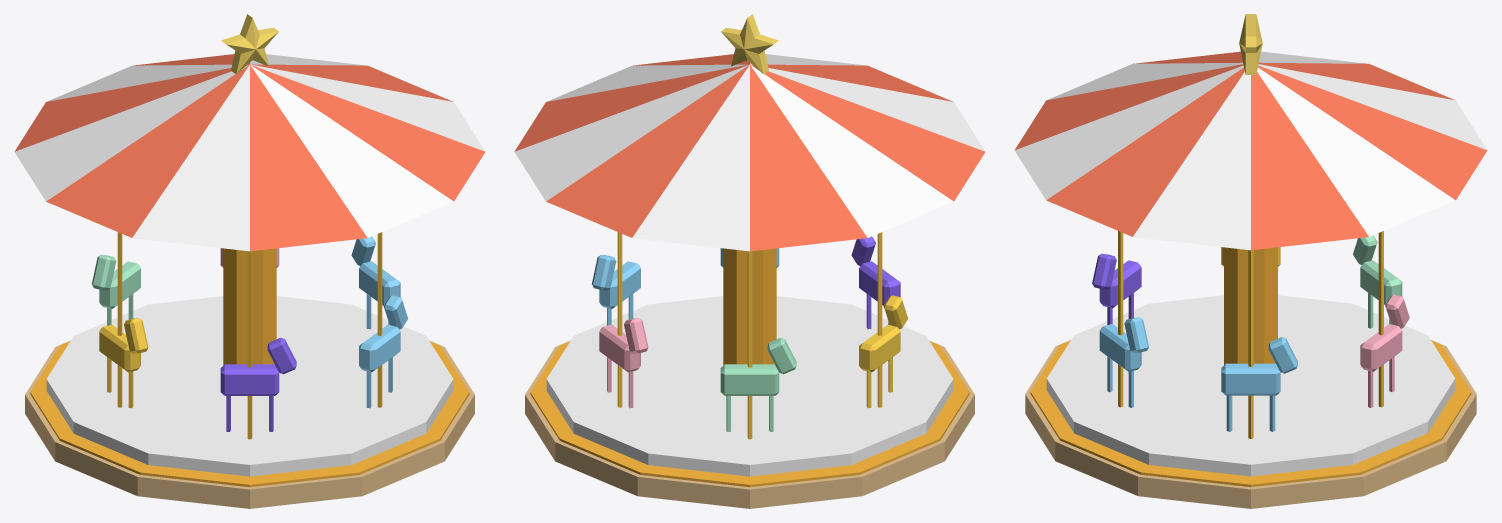
The model's file is station_carousel.glb.
3 renders of one model, left to right at view 1: azimuth 30°, elevation 25°; view 2: azimuth 150°, elevation 25°; view 3: azimuth 270°, elevation 25°, orthographic.
Parts seen in each view (by area): view 1: station_carousel_spin, station_carousel; view 2: station_carousel_spin, station_carousel; view 3: station_carousel_spin, station_carousel.
Part boxes in pixels (x1,y1,x2,y2): station_carousel_spin: (14,14,485,476); station_carousel: (25,340,474,508); station_carousel_spin: (514,14,985,476); station_carousel: (525,340,974,508); station_carousel_spin: (1014,14,1487,476); station_carousel: (1025,340,1476,508).
Bounding box in the file's own units: 4.4 × 4.1 × 4.4.
